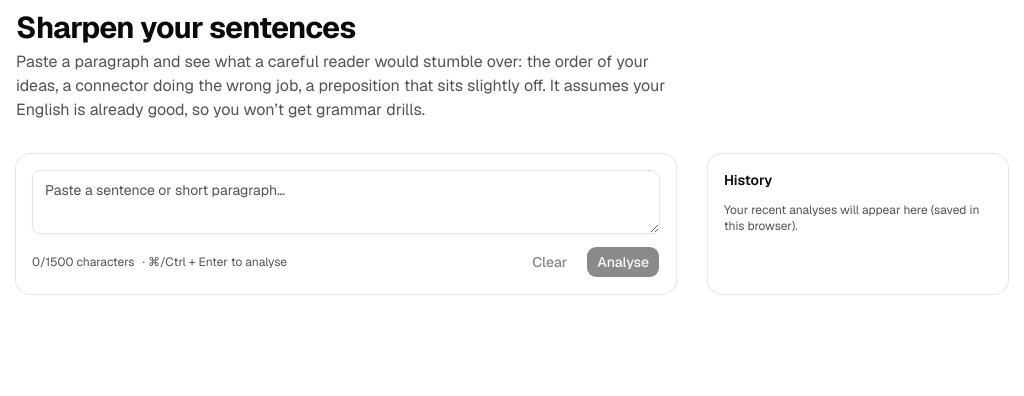
Test case: error handling › falls back to a generic message when the API sends no error text
The image size is (1024, 396).
Type "The cat sat" into the text box at (346, 202), box [32,170,660,234]
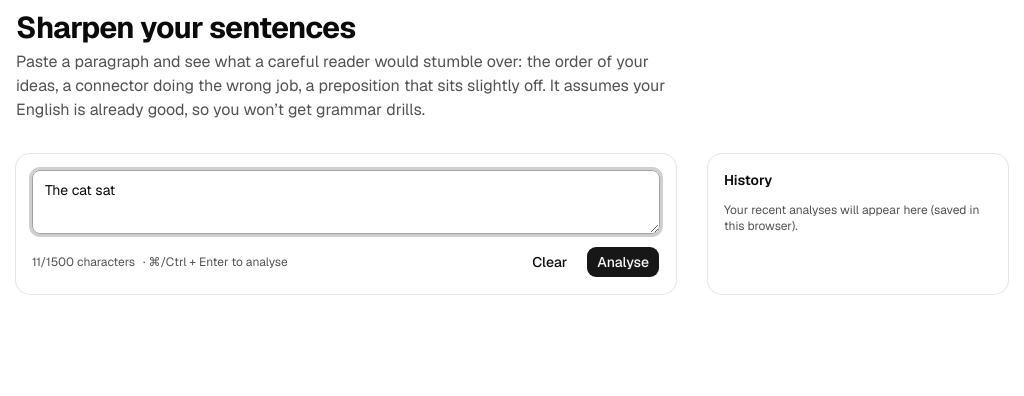
Click the button "Analyse" at (623, 262), box [586,246,660,278]
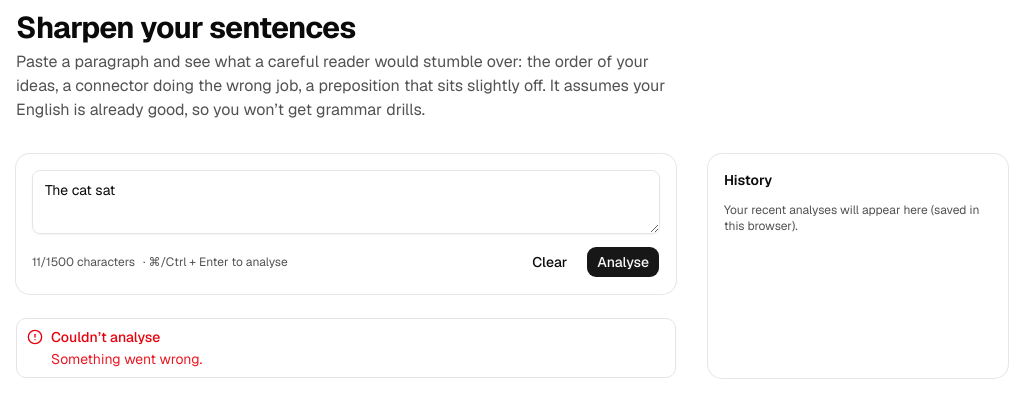
Expected: the text "Something went wrong." is shown, [51,350,202,368]
